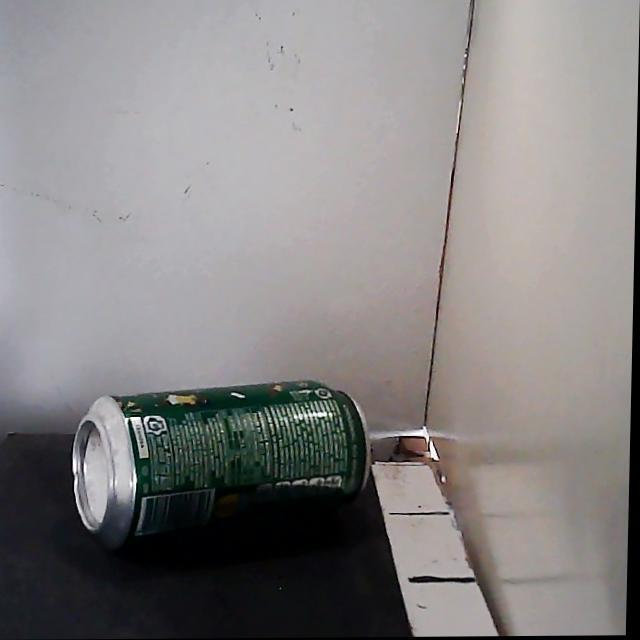metal: (73, 380, 370, 548)
